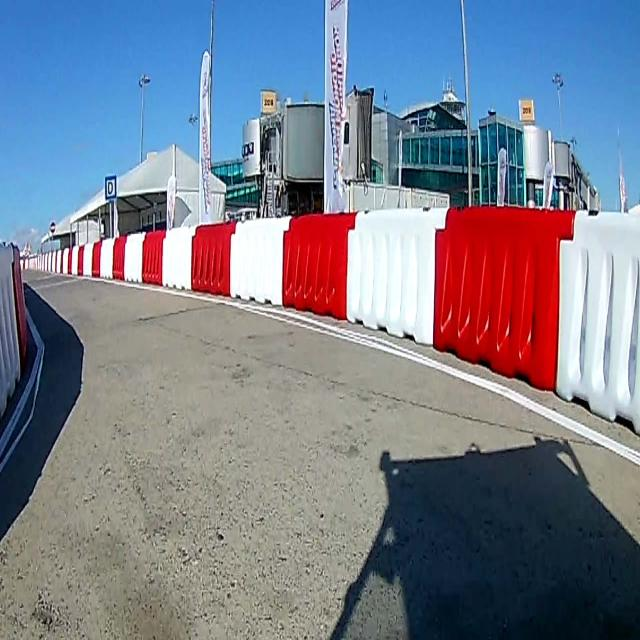durak: (105, 175, 117, 200)
